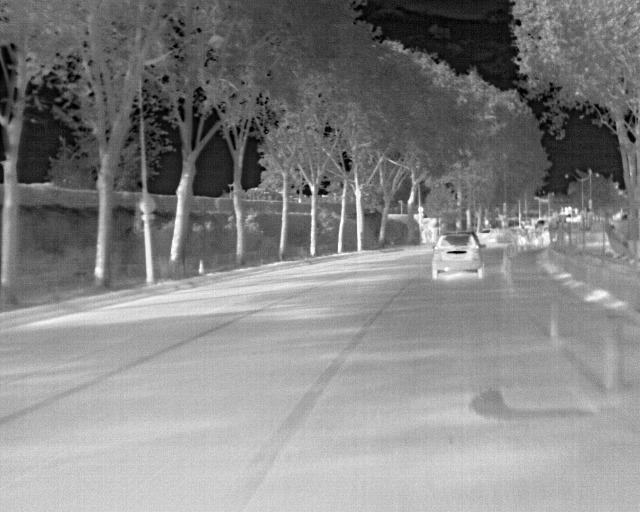car: (431, 232, 487, 279), (476, 228, 501, 246)
light: (588, 200, 592, 210)
sign: (139, 197, 157, 213), (141, 214, 154, 220), (418, 207, 423, 212)
